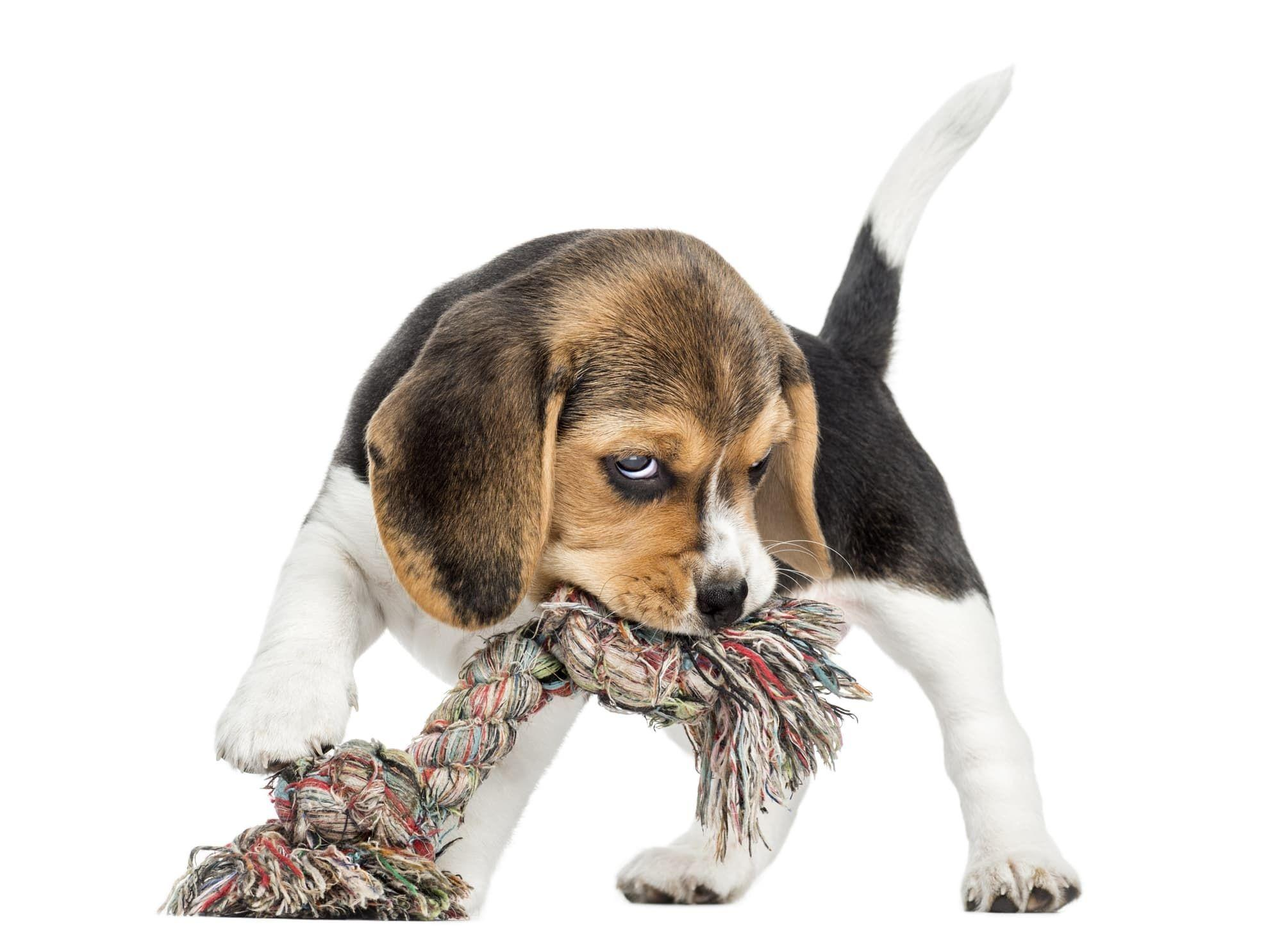puppy-dog: (213, 58, 1083, 921)
